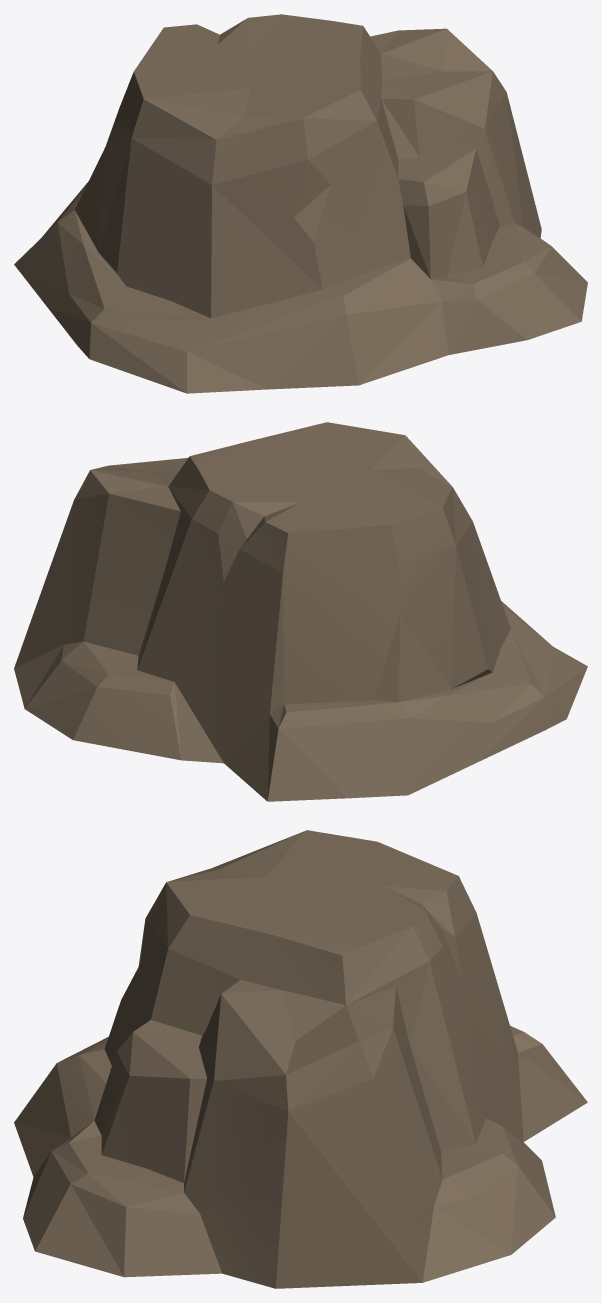
Rendered from Rock_4.fbx.
3 views of the same model, one above another, from view 1: azimuth 30°, elevation 25°; view 2: azimuth 150°, elevation 25°; view 3: azimuth 270°, elevation 25° (orthographic). The views are drawn at different scales.
Visible parts, largest first — view 1: Rock_4; view 2: Rock_4; view 3: Rock_4.
Boxes of the visible parts, x1=… form: Rock_4: x1=14, y1=14, x2=587, y2=393; Rock_4: x1=14, y1=422, x2=587, y2=801; Rock_4: x1=14, y1=830, x2=587, y2=1288.
Bounding box in the file's own units: 200 × 89.16 × 184.
